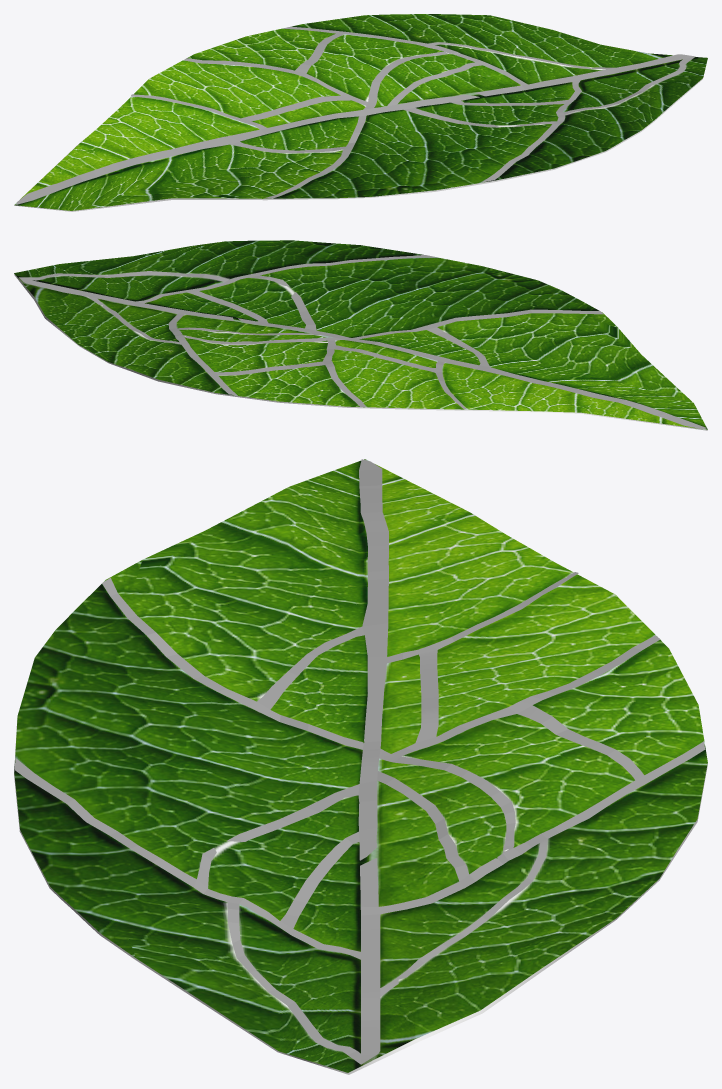
File: leaf road.fbx
3 renders of one model, top to bottom at view 1: azimuth 30°, elevation 25°; view 2: azimuth 150°, elevation 25°; view 3: azimuth 270°, elevation 25°, orthographic. The views are drawn at different scales.
Parts seen in each view (by area): view 1: leaf1, polySurface5; view 2: leaf1, polySurface5; view 3: leaf1, polySurface5.
Boxes of the visible parts, left/top/right/bottom form: leaf1: left=14, top=14, right=707, bottom=211; polySurface5: left=16, top=26, right=695, bottom=204; leaf1: left=14, top=240, right=707, bottom=430; polySurface5: left=19, top=255, right=706, bottom=428; leaf1: left=14, top=459, right=707, bottom=1074; polySurface5: left=15, top=459, right=705, bottom=1064.
Bounding box in the file's own units: 2546 × 157 × 1279.
2 materials, 1 textured.
